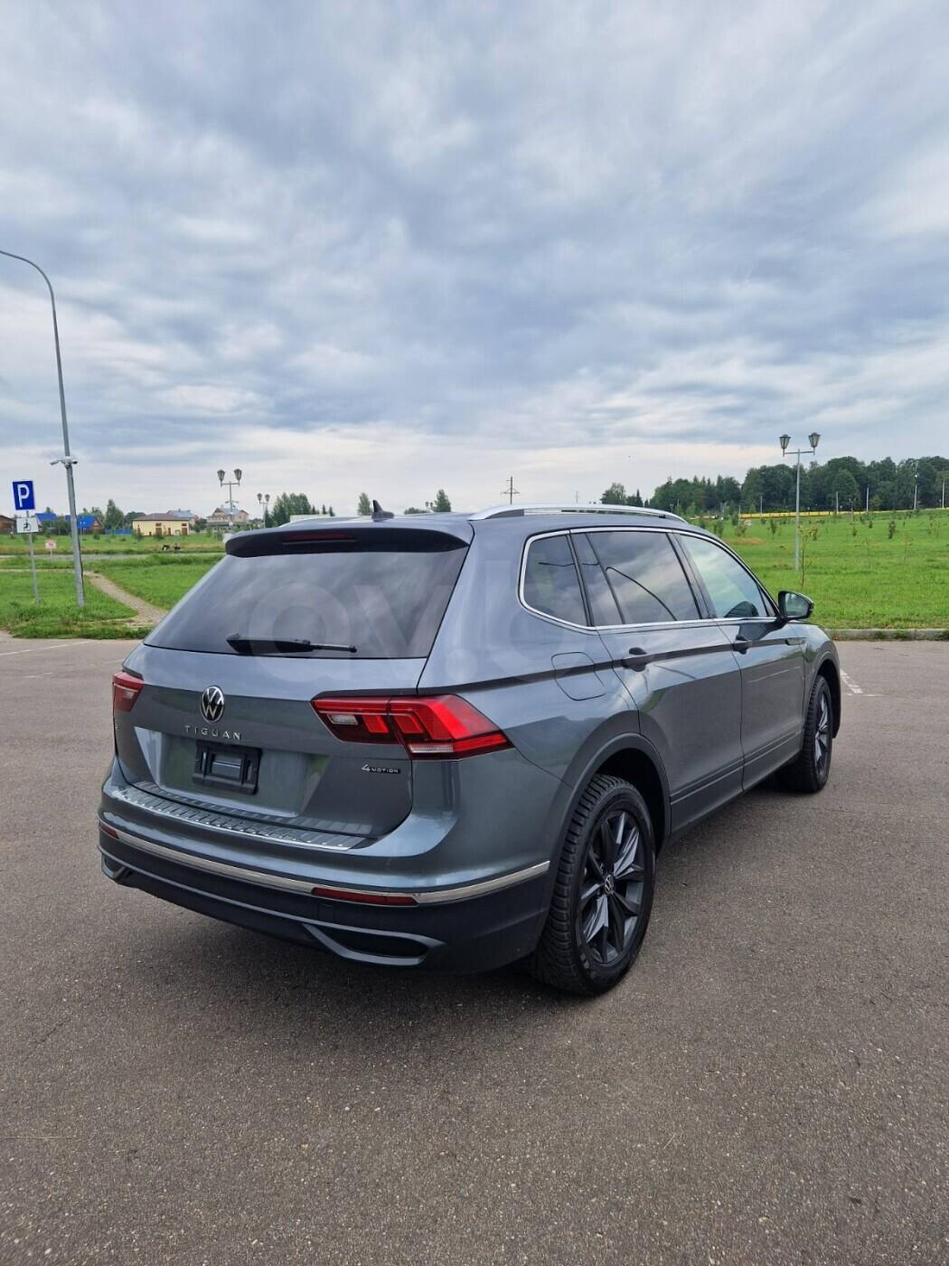Tiguan_2020-2024: (99, 508, 855, 1006)
